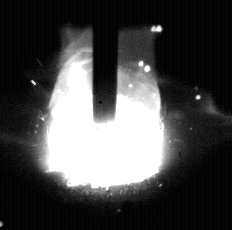arame: (93, 0, 118, 122)
poca: (46, 0, 164, 230)
